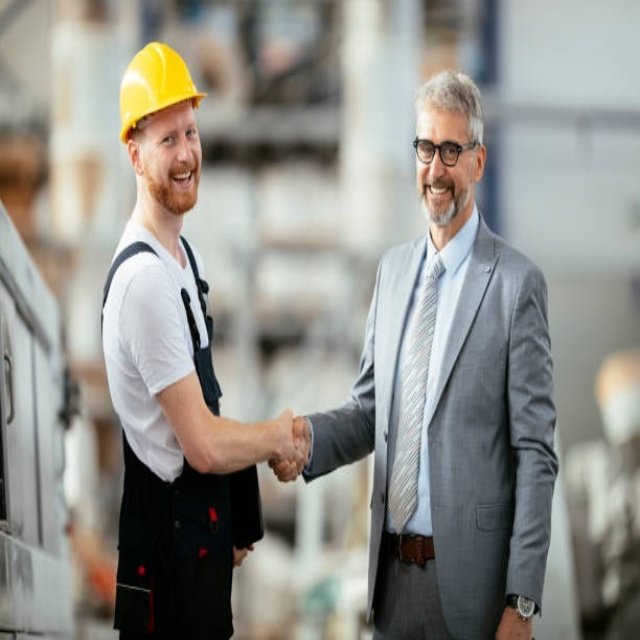Gafas: (413, 133, 479, 163)
Sin_gafas: (151, 115, 201, 152)
Sin_guantes: (261, 402, 313, 489)
Sin_mascara: (165, 163, 198, 204), (424, 180, 454, 215)
